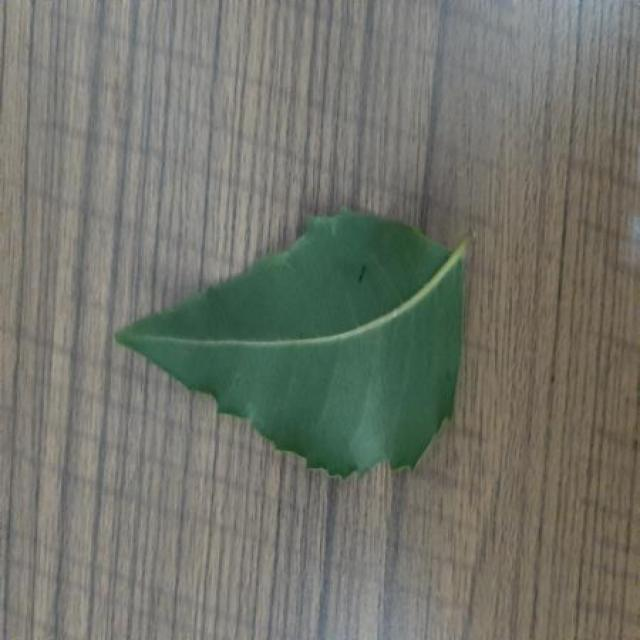neem: (117, 210, 465, 476)
